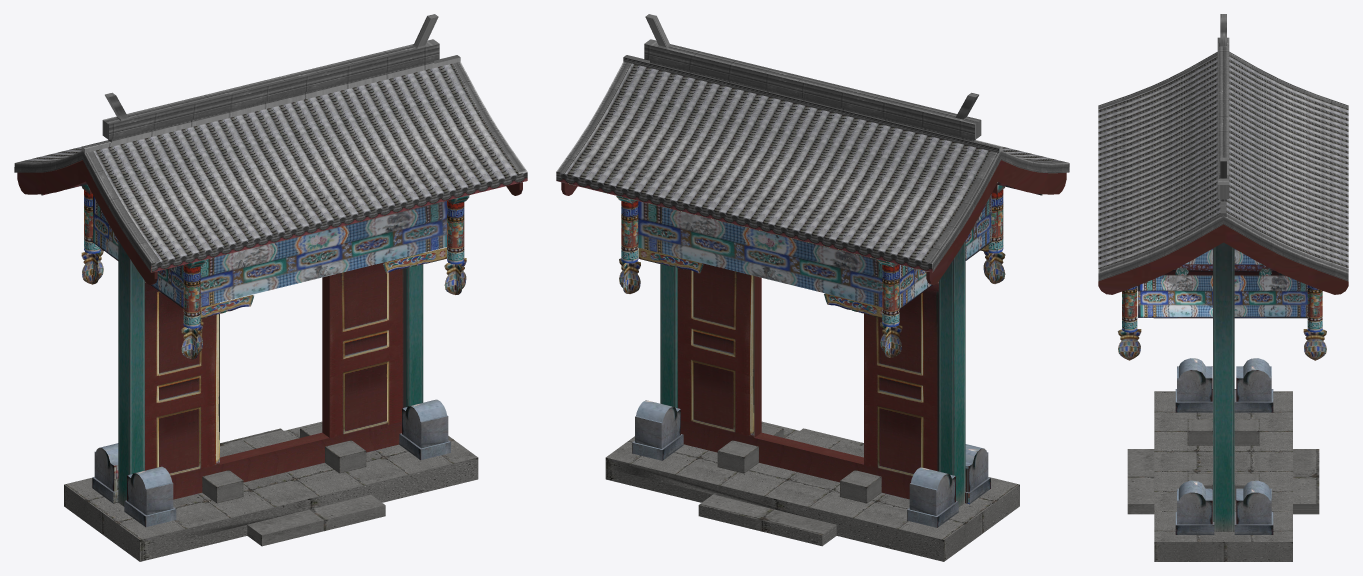
File: door.obj
3 renders of one model, left to right at view 1: azimuth 30°, elevation 25°; view 2: azimuth 150°, elevation 25°; view 3: azimuth 270°, elevation 25°, orthographic. The views are drawn at different scales.
Visible parts, largest first — view 1: yiqinglou_007_05_03; view 2: yiqinglou_007_05_03; view 3: yiqinglou_007_05_03.
Boxes of the visible parts, x1,y1,x2,y2 form: yiqinglou_007_05_03: [14, 14, 527, 561]; yiqinglou_007_05_03: [556, 14, 1069, 561]; yiqinglou_007_05_03: [1098, 14, 1348, 561].
Size of the model in its own units: 14.93 by 16.58 by 9.43.
5 materials, 5 textured.
